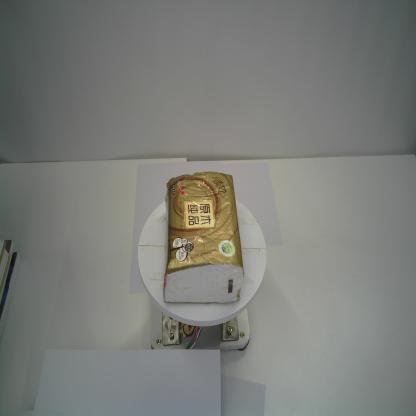Tissue: (163, 170, 245, 304)
